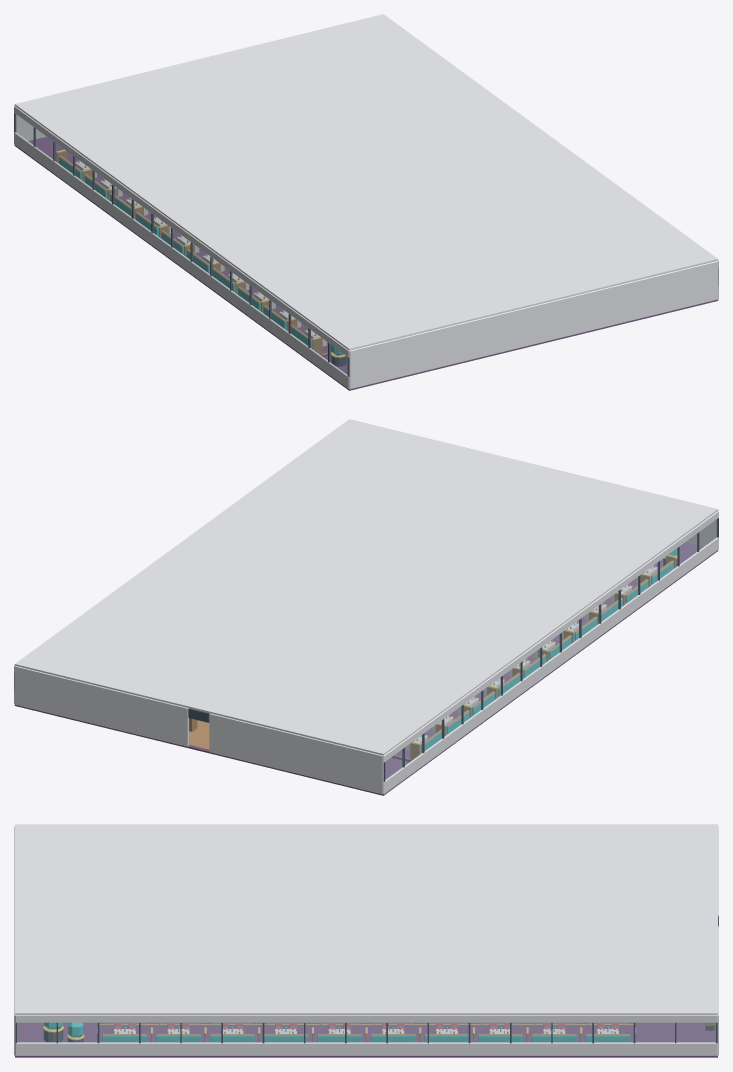
Rendered from dining-room.glb.
The picture shows the model from 3 angles, top to bottom: view 1: azimuth 30°, elevation 25°; view 2: azimuth 150°, elevation 25°; view 3: azimuth 270°, elevation 25°; orthographic projection. The views are drawn at different scales.
Parts seen in each view (by area): view 1: CM_BULKHEAD, CM_GLASS_CLEAR, CM_CARPET, CM_TEAL, CM_WOOD, CM_TRIM; view 2: CM_BULKHEAD, CM_GLASS_CLEAR, CM_CARPET, CM_WOOD, CM_TEAL, CM_TRIM; view 3: CM_BULKHEAD, CM_GLASS_CLEAR, CM_CARPET, CM_TEAL, CM_CORAL, CM_TRIM, CM_WOOD, CM_BRASS.
Part boxes in pixels (x1,y1,x2,y2): CM_BULKHEAD: [14, 14, 718, 389]; CM_GLASS_CLEAR: [15, 114, 347, 374]; CM_CARPET: [14, 137, 718, 390]; CM_TEAL: [59, 157, 343, 355]; CM_WOOD: [56, 151, 330, 355]; CM_TRIM: [14, 113, 718, 376]; CM_BULKHEAD: [14, 419, 718, 794]; CM_GLASS_CLEAR: [385, 519, 717, 779]; CM_CARPET: [14, 542, 718, 795]; CM_WOOD: [189, 556, 676, 760]; CM_TEAL: [420, 548, 677, 753]; CM_TRIM: [14, 518, 718, 781]; CM_BULKHEAD: [14, 824, 718, 1055]; CM_GLASS_CLEAR: [17, 1022, 715, 1042]; CM_CARPET: [15, 1022, 717, 1057]; CM_TEAL: [44, 1022, 630, 1042]; CM_CORAL: [114, 1022, 618, 1033]; CM_TRIM: [15, 915, 718, 1043]; CM_WOOD: [97, 1022, 715, 1042]; CM_BRASS: [42, 1022, 635, 1040].
Size of the model in its own units: 28.14 by 3.04 by 44.14.
